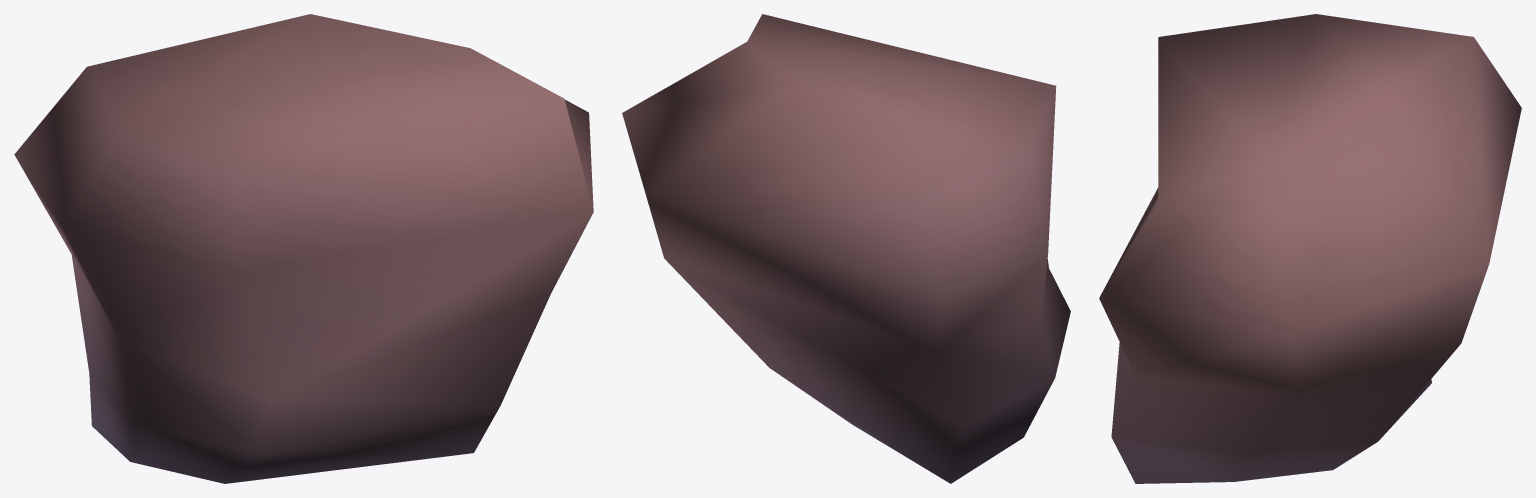
File: Rock 02.glb
3 views of the same model, side by side, from view 1: azimuth 30°, elevation 25°; view 2: azimuth 150°, elevation 25°; view 3: azimuth 270°, elevation 25° (orthographic). The views are drawn at different scales.
Parts seen in each view (by area): view 1: Cube; view 2: Cube; view 3: Cube.
Part boxes in pixels (x1,y1,x2,y2): Cube: [14, 14, 593, 483]; Cube: [622, 14, 1070, 483]; Cube: [1099, 14, 1521, 483].
Size of the model in its own units: 1.83 by 1.36 by 1.3.
Materials: 1 (1 with a texture image).
